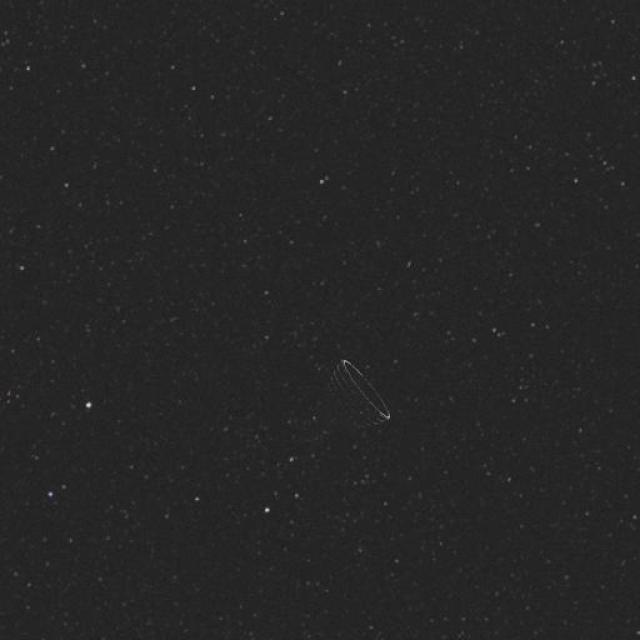debris: (233, 346, 400, 473)
